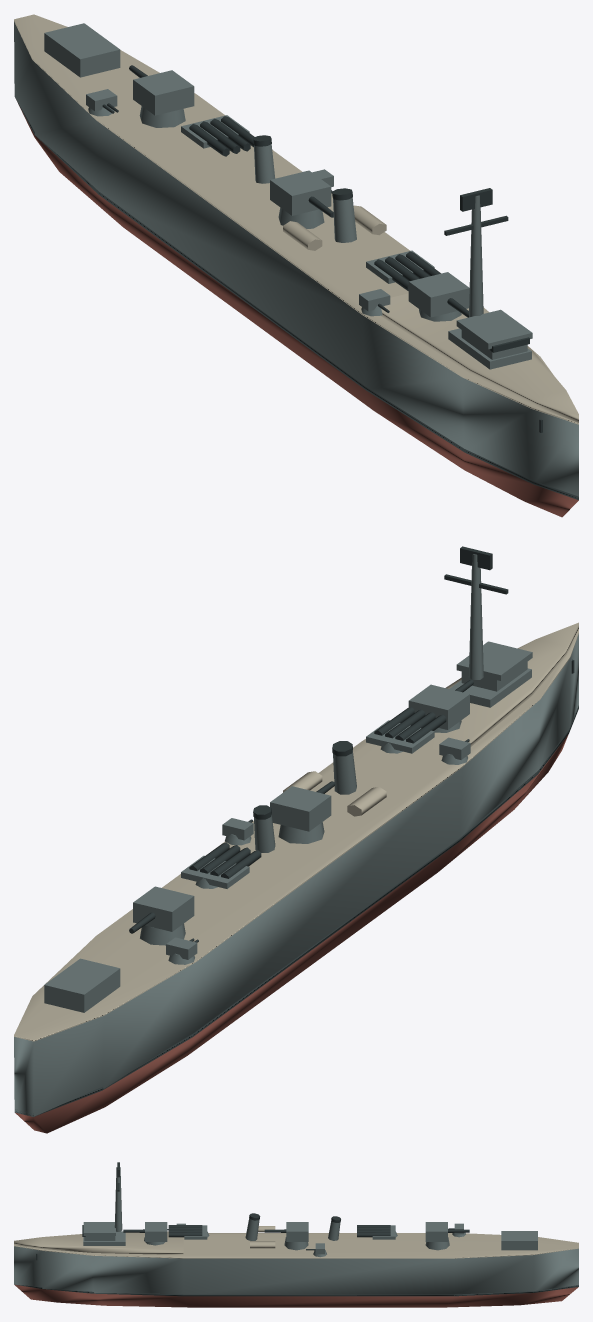
File: kagero.glb
3 views of the same model, one above another, from view 1: azimuth 30°, elevation 25°; view 2: azimuth 150°, elevation 25°; view 3: azimuth 270°, elevation 25° (orthographic). The views are drawn at different scales.
Parts seen in each view (by area): view 1: Freeboard, Deck, UnderwaterHull, Forecastle, AftDeckhouse, Waterline, Main-Casing-2, Main-Casing-1, Main-Casing-0, Bridge-Roof, Foremast-Pole, Bridge-Foundation (+4 smaller); view 2: Freeboard, Deck, UnderwaterHull, Forecastle, AftDeckhouse, Waterline, Main-Casing-1, Main-Casing-2, Main-Casing-0, Bridge-Roof, Foremast-Pole, Bridge-Foundation (+3 smaller); view 3: Freeboard, Deck, UnderwaterHull, Forecastle, Waterline, AftDeckhouse, Main-Casing-0, Main-Casing-1, Main-Casing-2, Bridge-Roof, Foremast-Pole, Bridge-Foundation (+1 smaller).
Part boxes in pixels (<box>): Freeboard: <box>14,21,578,496</box>; Deck: <box>14,14,578,424</box>; UnderwaterHull: <box>16,100,578,517</box>; Forecastle: <box>381,293,578,422</box>; AftDeckhouse: <box>44,23,120,77</box>; Waterline: <box>15,98,578,499</box>; Main-Casing-2: <box>133,70,194,115</box>; Main-Casing-1: <box>270,170,331,215</box>; Main-Casing-0: <box>408,272,469,317</box>; Bridge-Roof: <box>456,309,532,349</box>; Foremast-Pole: <box>469,195,483,317</box>; Bridge-Foundation: <box>448,328,531,369</box>; Freeboard: <box>14,633,578,1116</box>; Deck: <box>14,632,578,1041</box>; UnderwaterHull: <box>15,734,568,1133</box>; Forecastle: <box>422,622,578,750</box>; AftDeckhouse: <box>44,958,120,1012</box>; Waterline: <box>14,705,578,1116</box>; Main-Casing-1: <box>270,786,331,831</box>; Main-Casing-2: <box>133,886,194,931</box>; Main-Casing-0: <box>408,684,469,729</box>; Bridge-Roof: <box>456,641,532,680</box>; Foremast-Pole: <box>468,554,483,679</box>; Bridge-Foundation: <box>449,668,531,707</box>; Freeboard: <box>14,1246,578,1294</box>; Deck: <box>14,1233,578,1258</box>; UnderwaterHull: <box>14,1284,578,1307</box>; Forecastle: <box>14,1231,183,1254</box>; Waterline: <box>15,1284,578,1296</box>; AftDeckhouse: <box>501,1231,537,1250</box>; Main-Casing-0: <box>145,1222,167,1241</box>; Main-Casing-1: <box>286,1222,308,1241</box>; Main-Casing-2: <box>425,1222,447,1241</box>; Bridge-Roof: <box>83,1222,115,1235</box>; Foremast-Pole: <box>114,1167,122,1231</box>; Bridge-Foundation: <box>83,1231,125,1245</box>.
Bounding box in the file's own units: 12.48 × 29.96 × 115.
